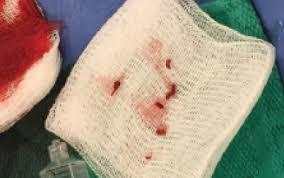Iv_Bottle: (40, 139, 88, 177)
cotton: (46, 0, 273, 177), (0, 0, 60, 132), (213, 64, 283, 177), (213, 67, 283, 177), (0, 69, 69, 177), (38, 0, 124, 67), (0, 36, 60, 131), (253, 0, 283, 80), (253, 0, 283, 44), (0, 0, 19, 25), (195, 0, 212, 4)
